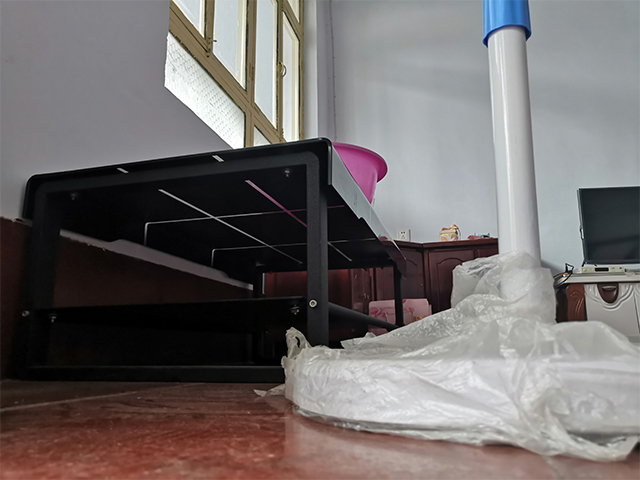cabinet: (552, 271, 640, 343)
table: (7, 136, 408, 385)
